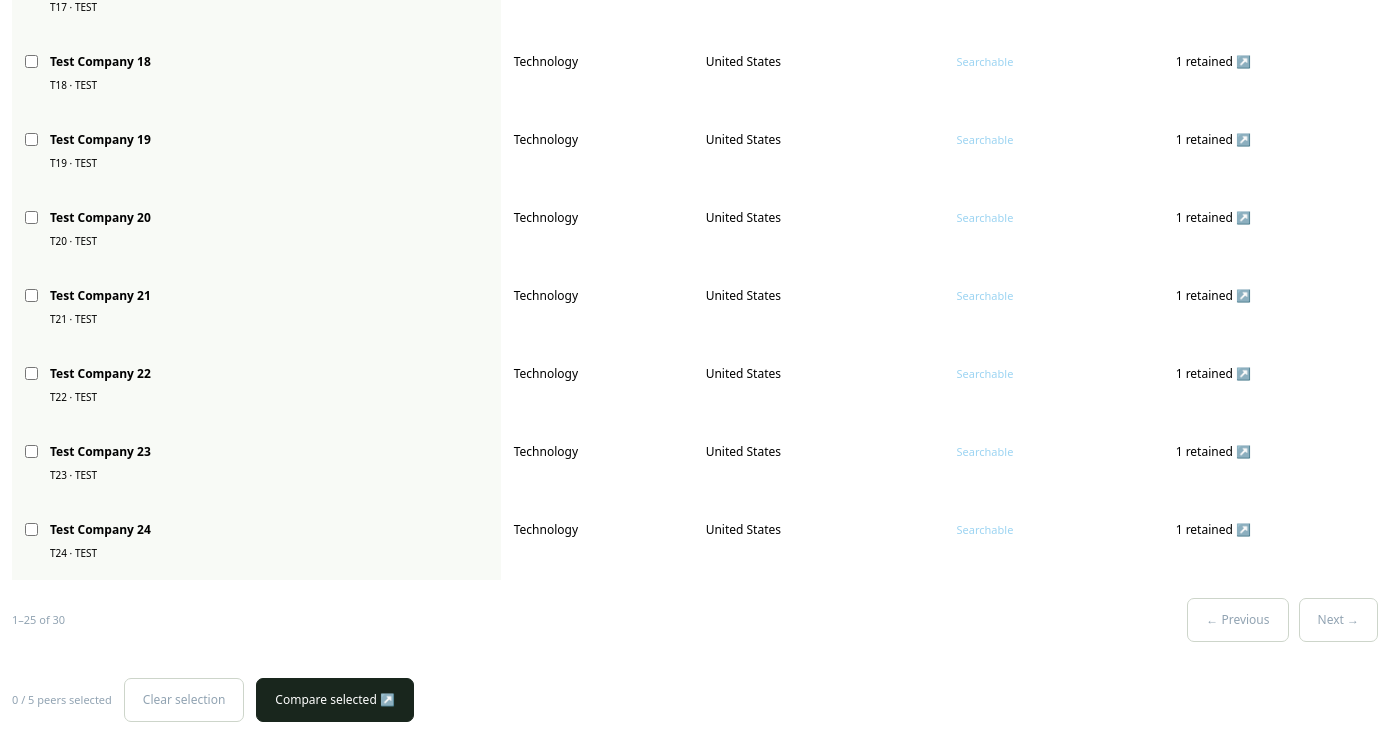
Scenario: paginates and filters the company roster independently of metric availability
(page scrolled)
Click the button "Next →" at (1338, 620), box [1298,598,1378,642]
(page scrolled)
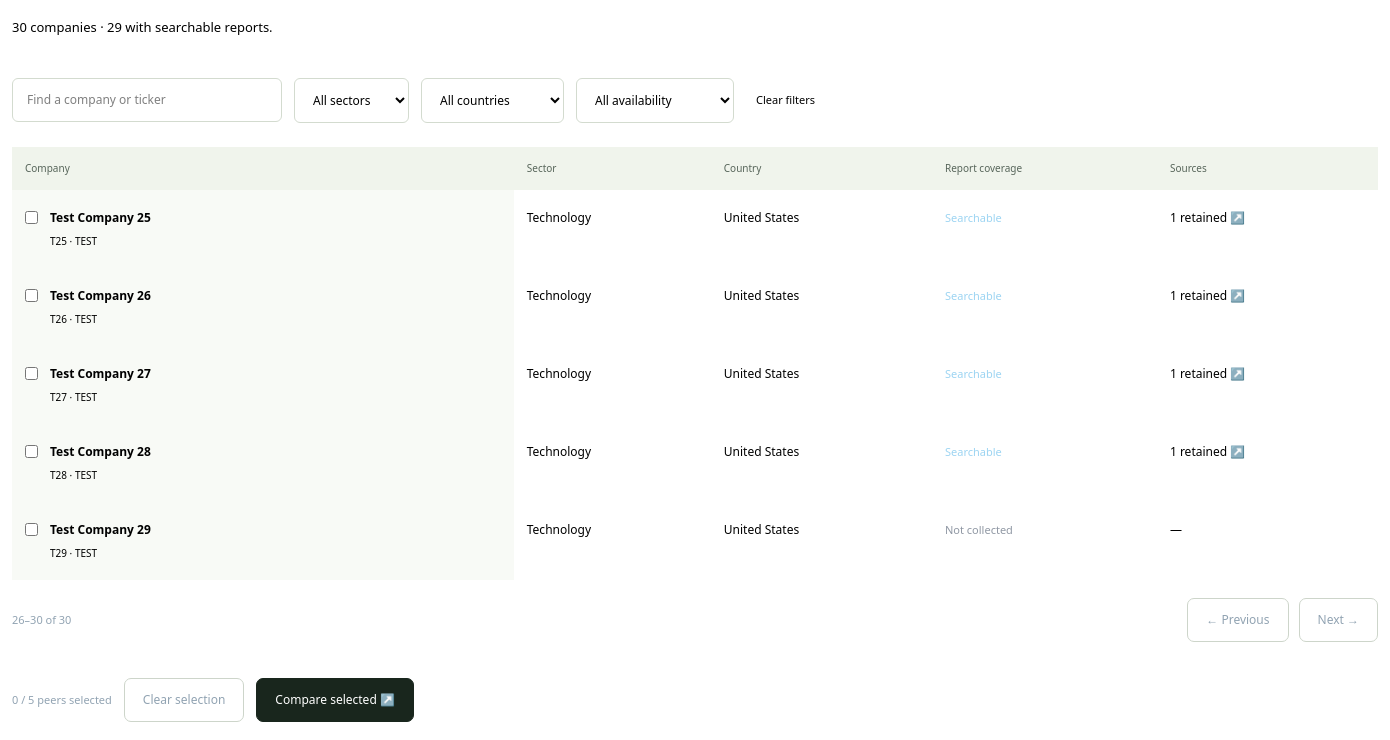
Check: the text "26–30 of 30" is shown, box [12,612,71,628]
Select "Energy" in the dropdown named "Sector" at (352, 100), box [294,78,409,123]
(page scrolled)
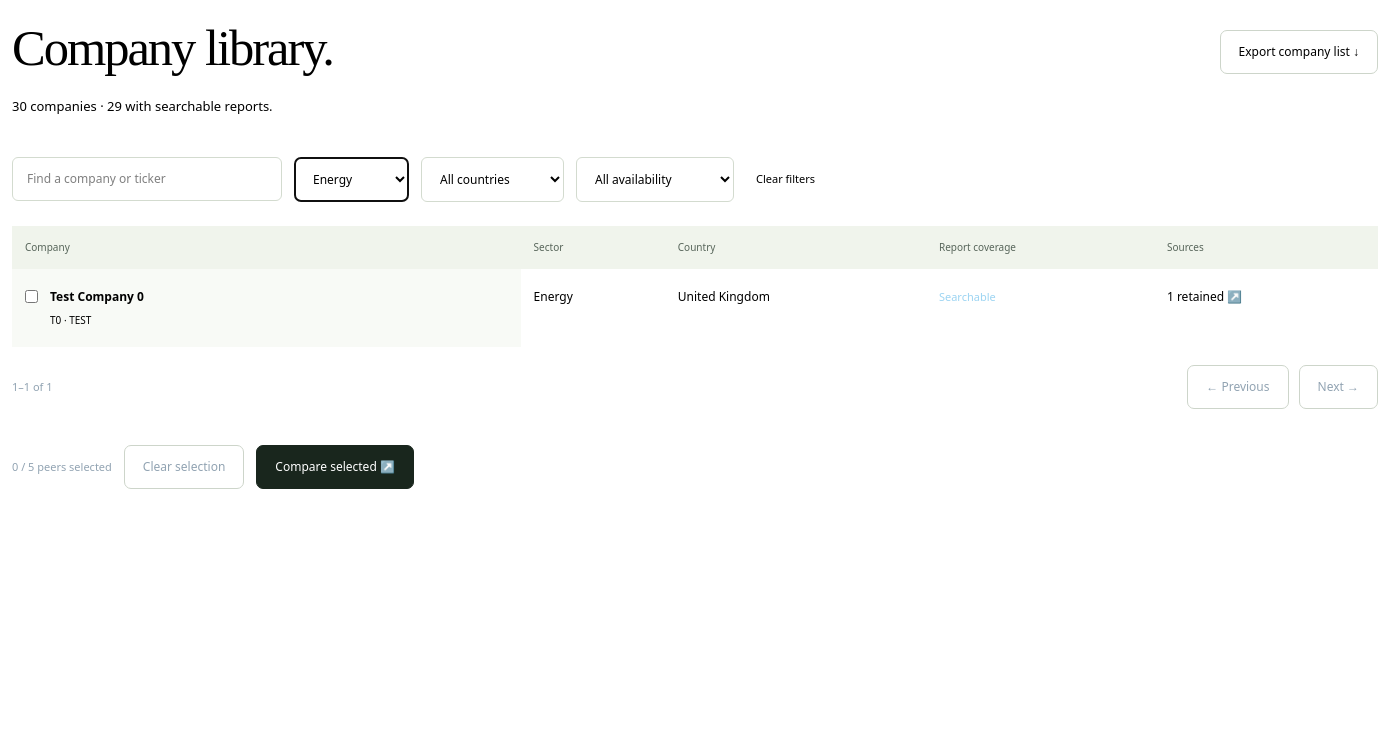
Check: the text "1–1 of 1" is shown, box [12,378,52,395]
Check: the link "Test Company 0" is shown, box [50,288,144,305]
